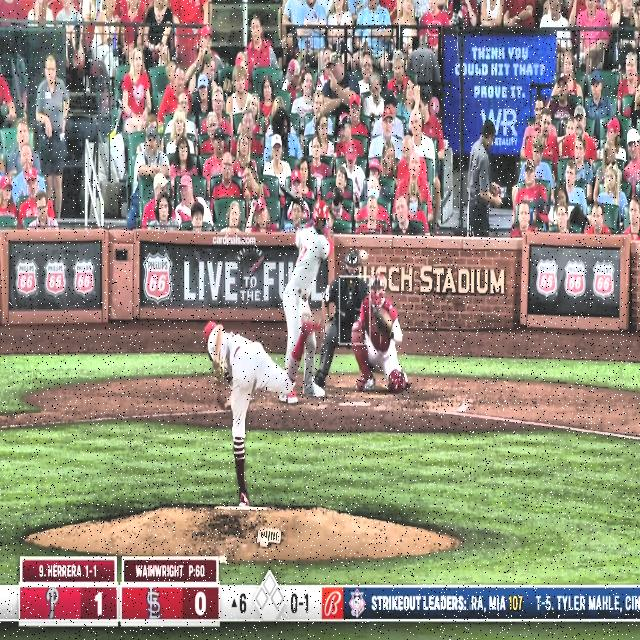baseball: (359, 248, 369, 262)
